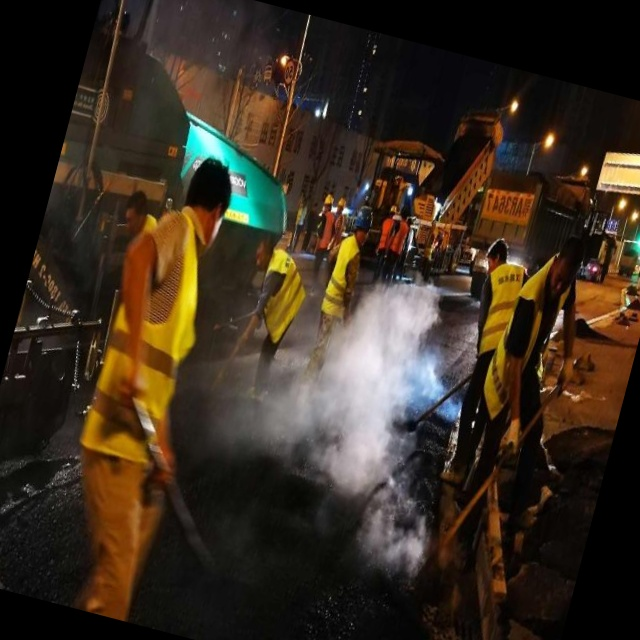Con_Chaleco: (251, 248, 314, 344), (319, 237, 364, 320)
